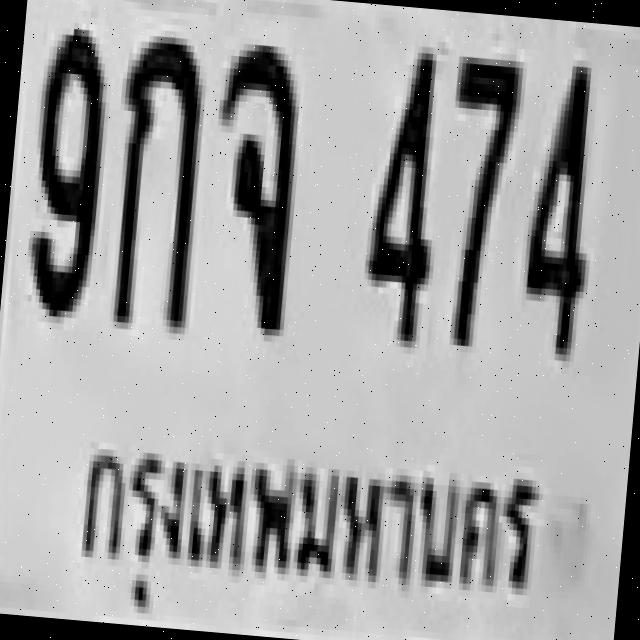10GorGai: (102, 27, 206, 327)
17ChorChan: (200, 36, 304, 330)
4: (358, 40, 448, 345), (513, 51, 603, 356)
7: (430, 49, 520, 348), (435, 49, 520, 297)
9: (18, 17, 108, 316)
Bangkok: (61, 419, 545, 640)
